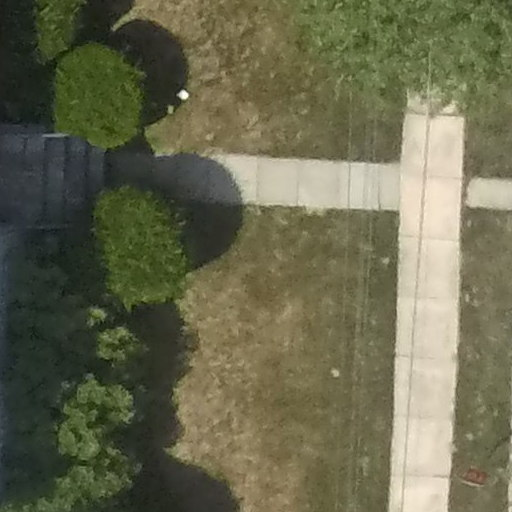container: (175, 86, 191, 101)
